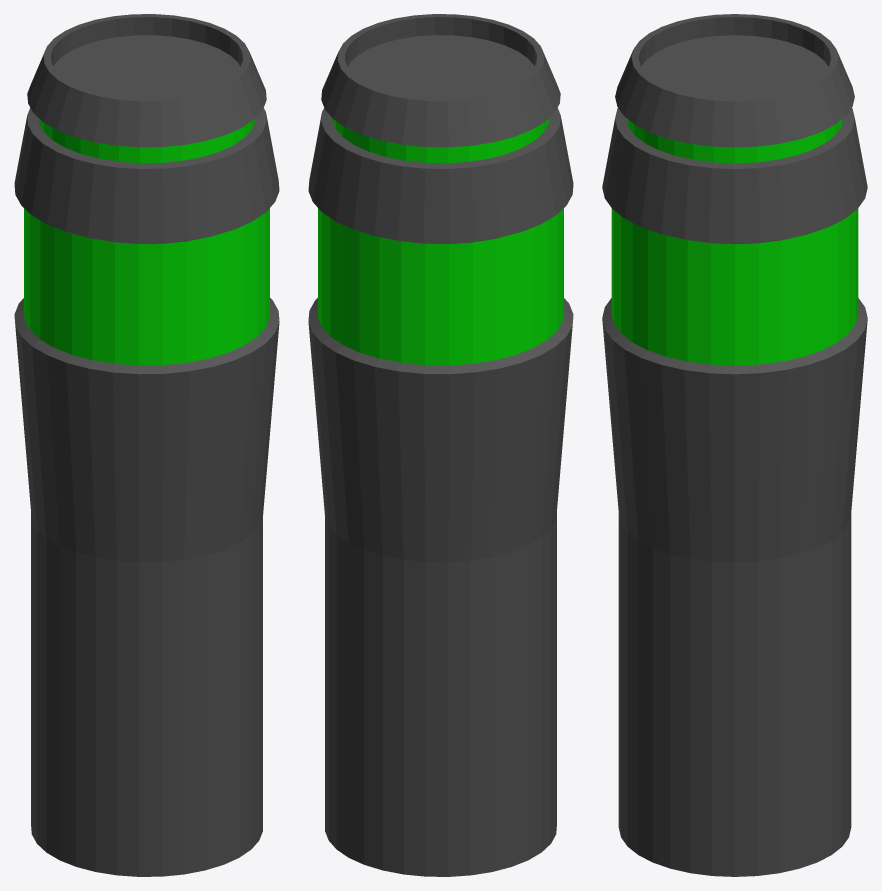
The model's file is Glass_Collector.fbx.
The picture shows the model from 3 angles, left to right: view 1: azimuth 30°, elevation 25°; view 2: azimuth 150°, elevation 25°; view 3: azimuth 270°, elevation 25°; orthographic projection.
Visible parts, largest first — view 1: Collector; view 2: Collector; view 3: Collector.
Part boxes in pixels (left/top/right/bottom): Collector: left=14, top=14, right=279, bottom=876; Collector: left=308, top=14, right=573, bottom=876; Collector: left=602, top=14, right=867, bottom=876.
Bounding box in the file's own units: 105 × 335 × 105.
